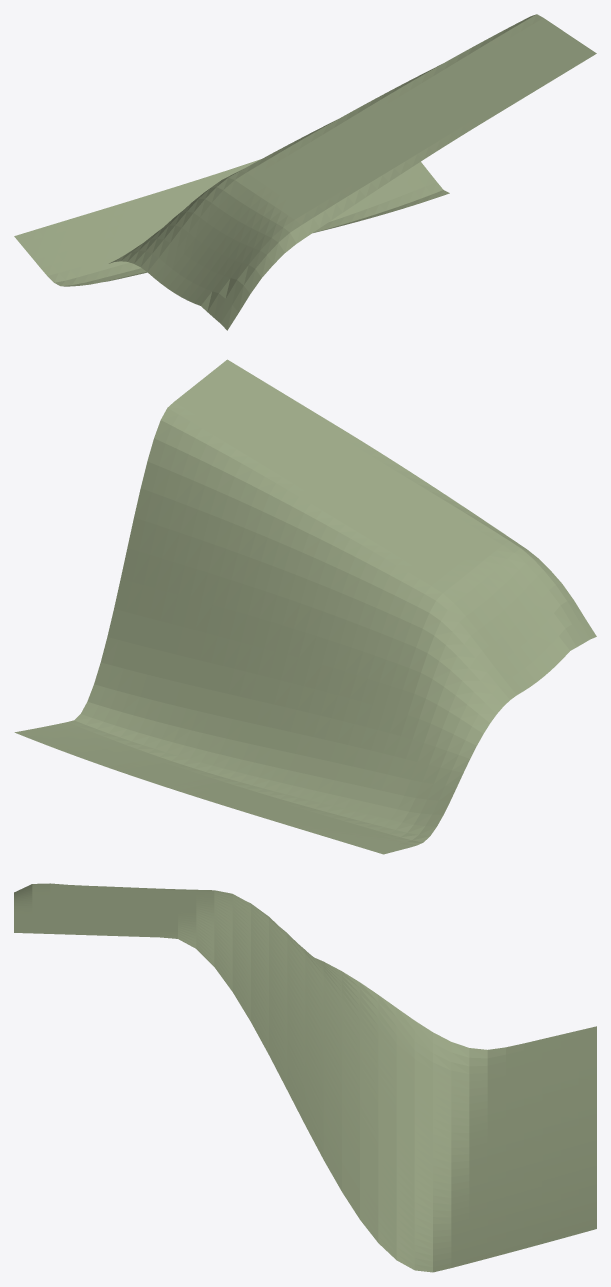
Rendered from alpine-10-11.glb.
The picture shows the model from 3 angles, top to bottom: view 1: azimuth 30°, elevation 25°; view 2: azimuth 150°, elevation 25°; view 3: azimuth 270°, elevation 25°; orthographic projection. The views are drawn at different scales.
Parts seen in each view (by area): view 1: alpine-10-11; view 2: alpine-10-11; view 3: alpine-10-11.
Part boxes in pixels (<box>): alpine-10-11: <box>14,14,596,330</box>; alpine-10-11: <box>14,359,596,854</box>; alpine-10-11: <box>14,883,596,1272</box>.
Bounding box in the file's own units: 256 × 177 × 256.
